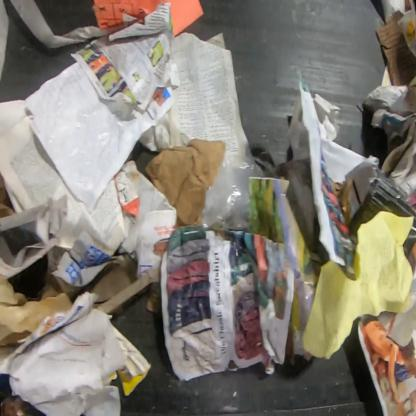cardboard: (144, 138, 226, 229), (376, 9, 415, 87), (330, 180, 352, 226)
soft_plastic: (200, 157, 275, 234)
